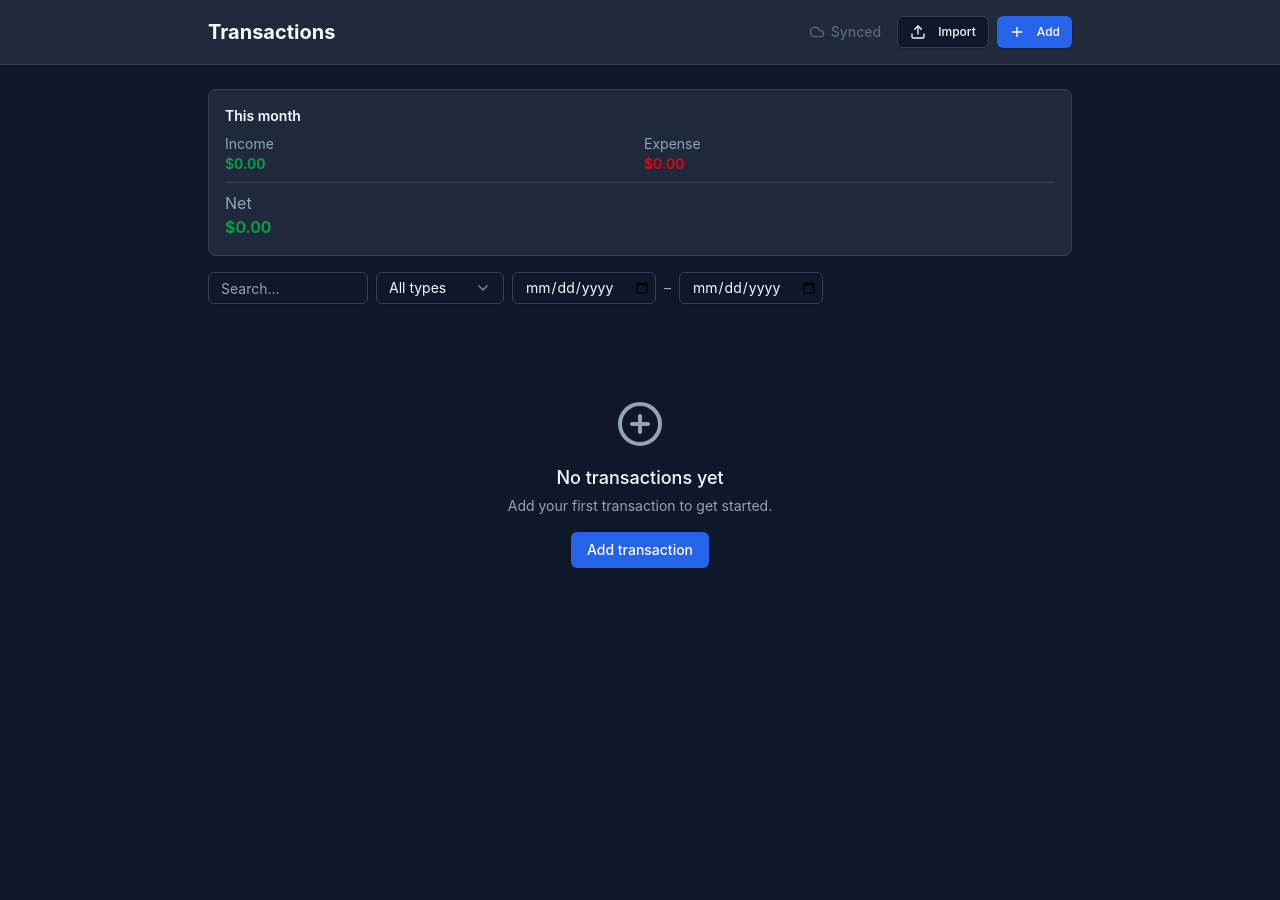
TransactionListPage › opens add dialog when Add button clicked
# Click the header "Add" button (not "Add transaction" in empty state)
Click the button "Add": click(1034, 32) [997, 16, 1072, 48]
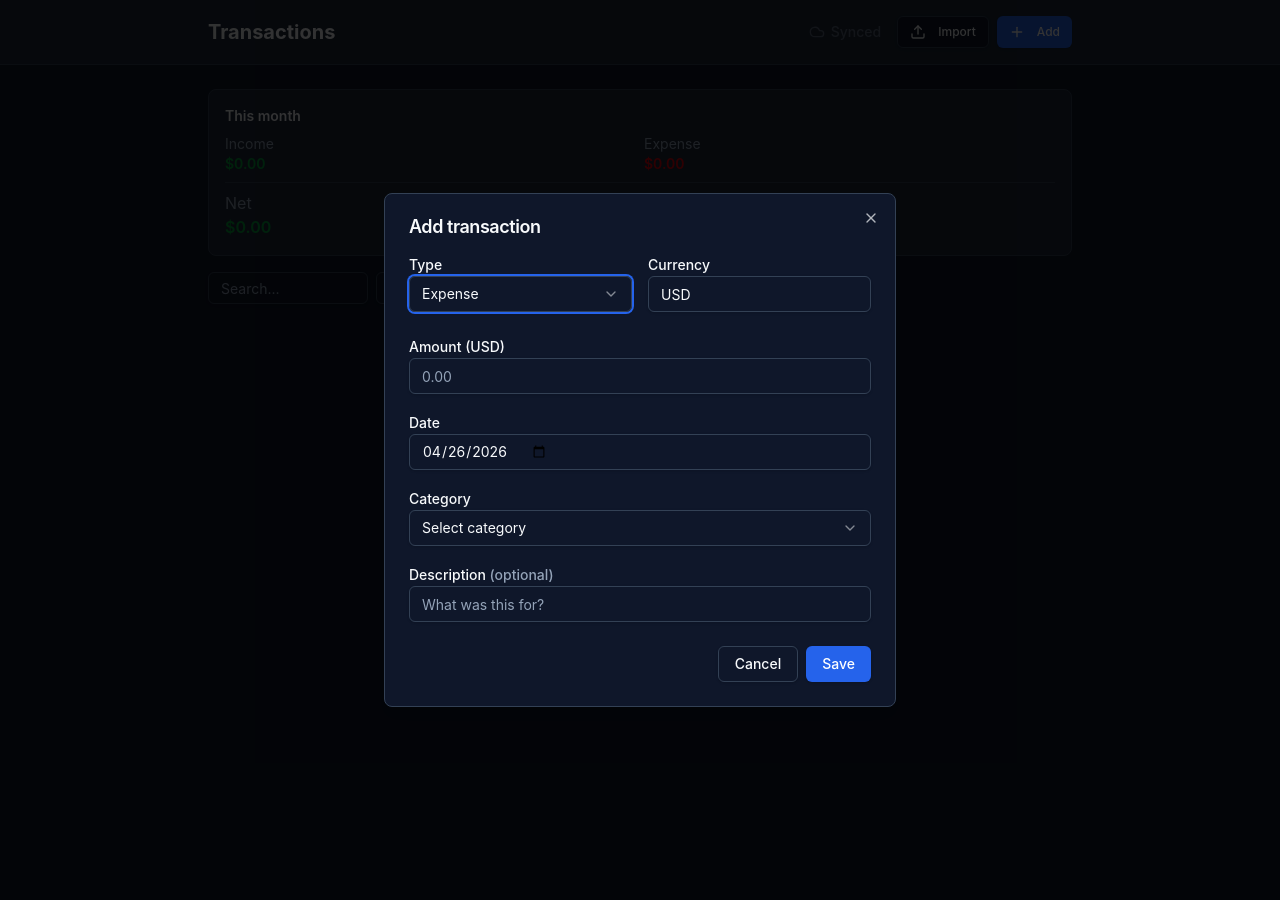
Expected: the dialog is shown, [384, 193, 896, 707]
Expected: the heading "Add transaction" is shown, [409, 216, 540, 237]
